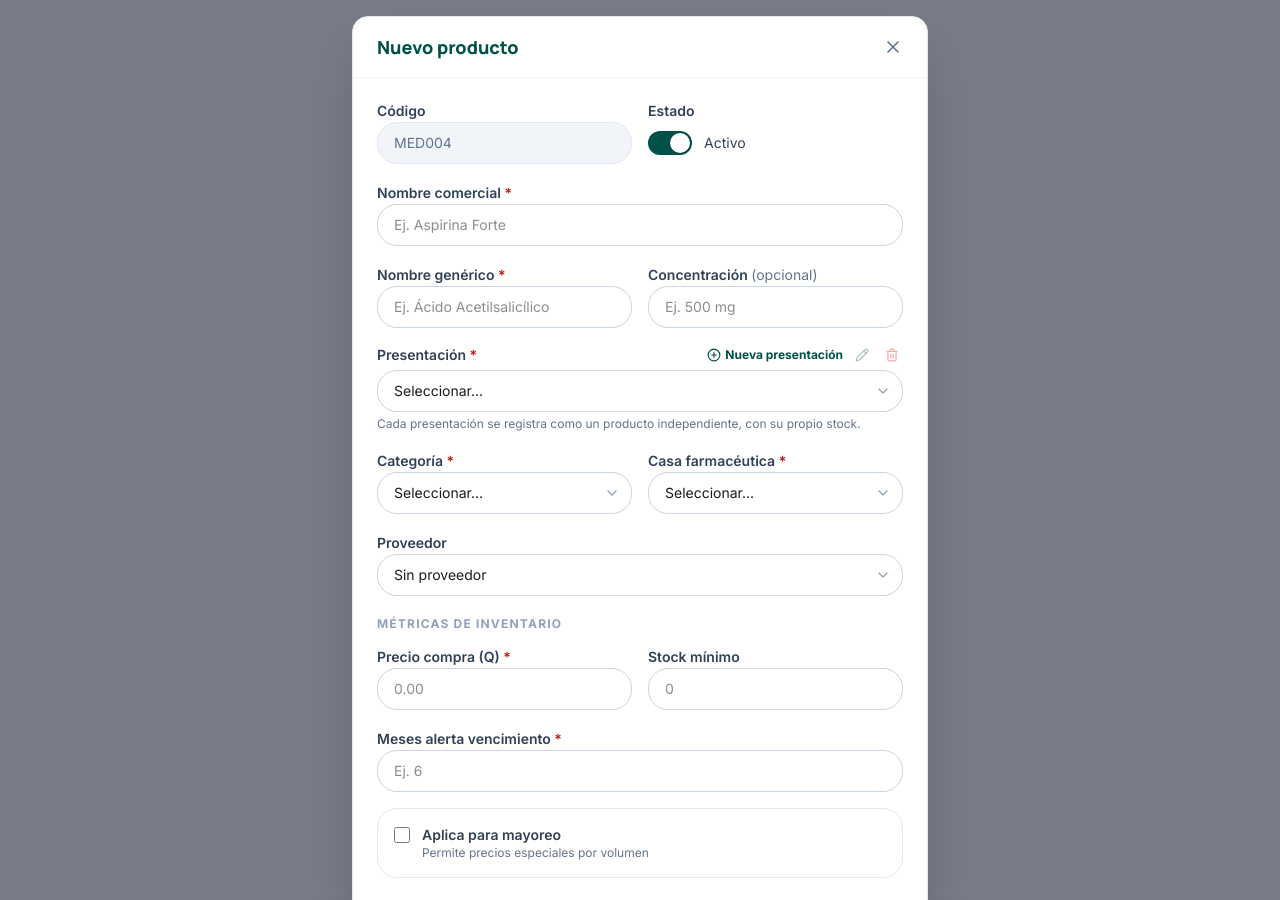
Test: ProductoFormModal › explica al intentar eliminar una presentación asociada a productos
Select "Caja" in the dropdown labelled "Presentación *" at (640, 391), box [377,370,903,412]
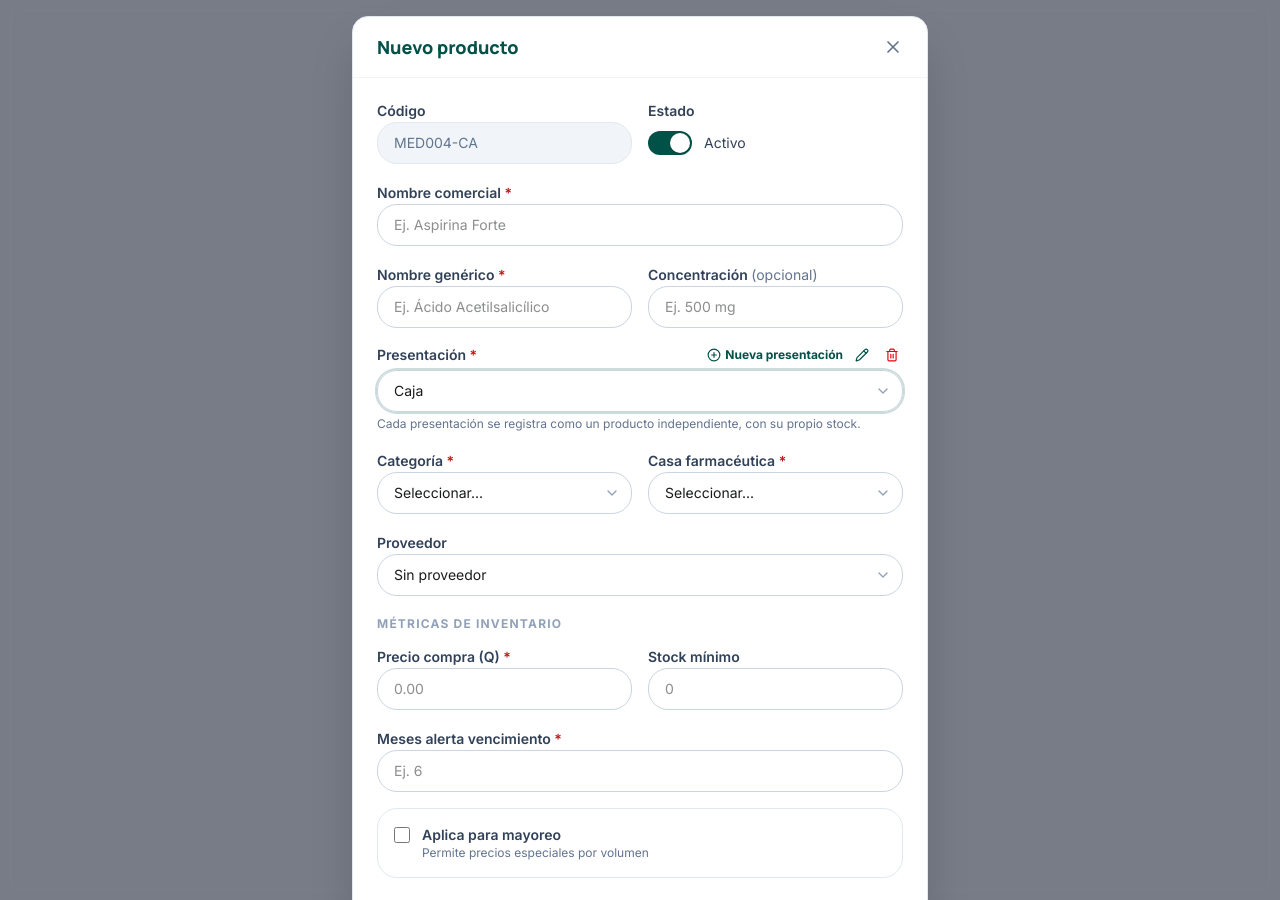
Expected: the text "se usa en 2 productos" is not shown
Click the button named "Eliminar presentación seleccionada" at (892, 355), box [881,344,903,366]
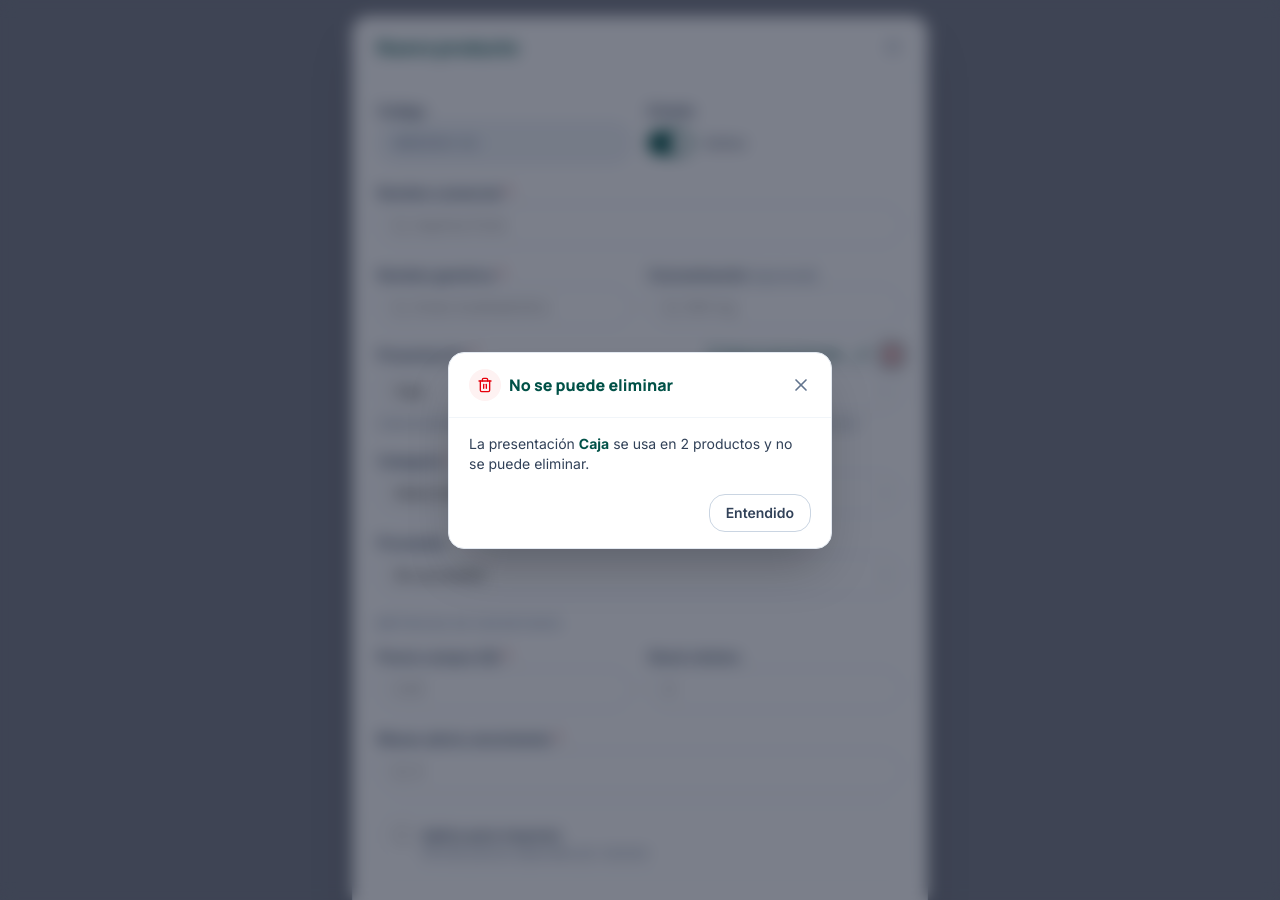
Expected: the text "se usa en 2 productos" is shown, [469,434,811,474]
